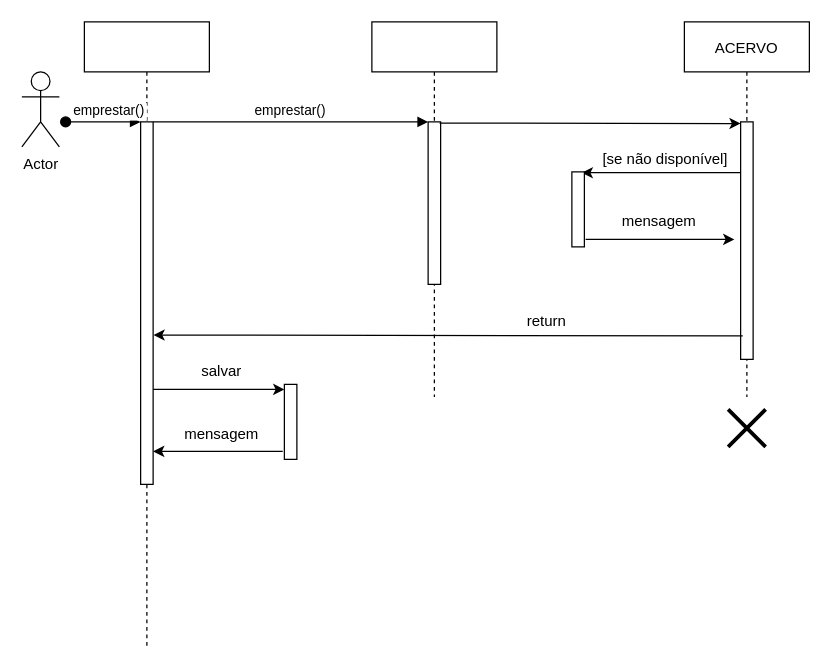
Some shapes in this 831 by 669 pixel diagram are drawn without their labels. Here are the shapes that lost their labels. From the top down, the box of each, then its label:
(371, 21, 497, 397): USUARIO
(83, 21, 209, 647): EMPRESTIMO
